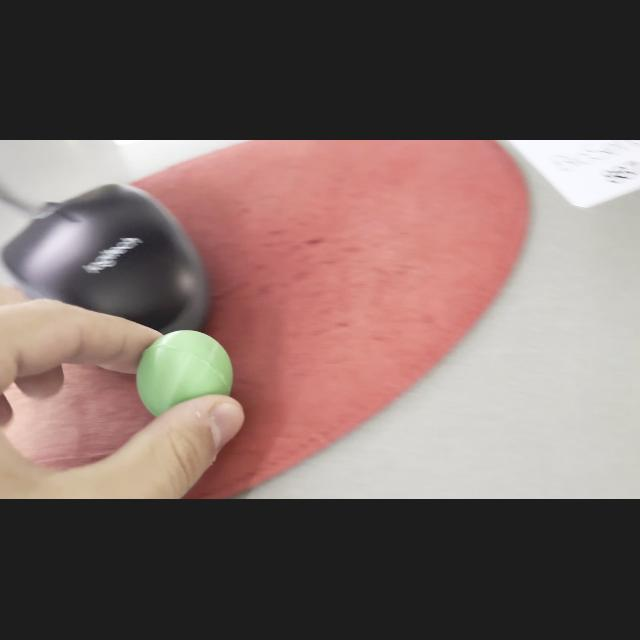objects: (132, 323, 235, 415)
